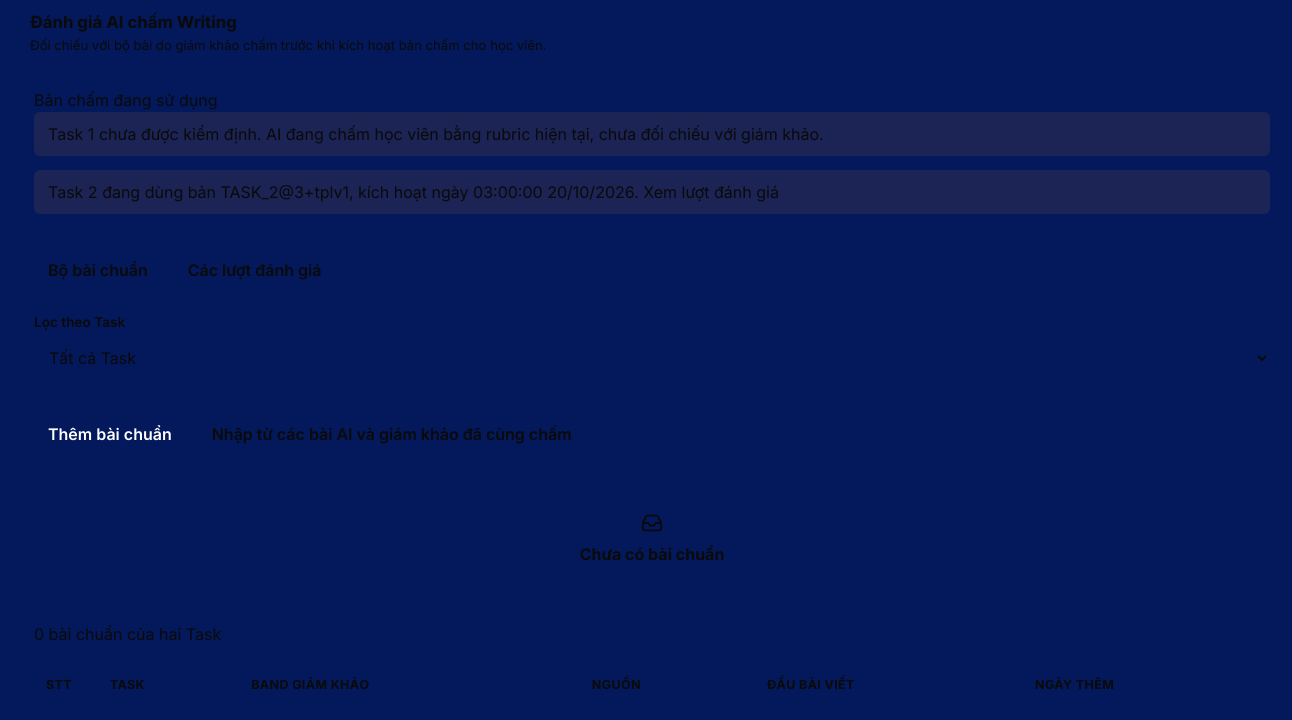
Scenario: AiEvaluationPage › reloads runs every five seconds while one is running and stops when it is done
Step 1. Click the button "Các lượt đánh giá" → click(255, 270), box [174,248,336,292]
Wait 30000 ms
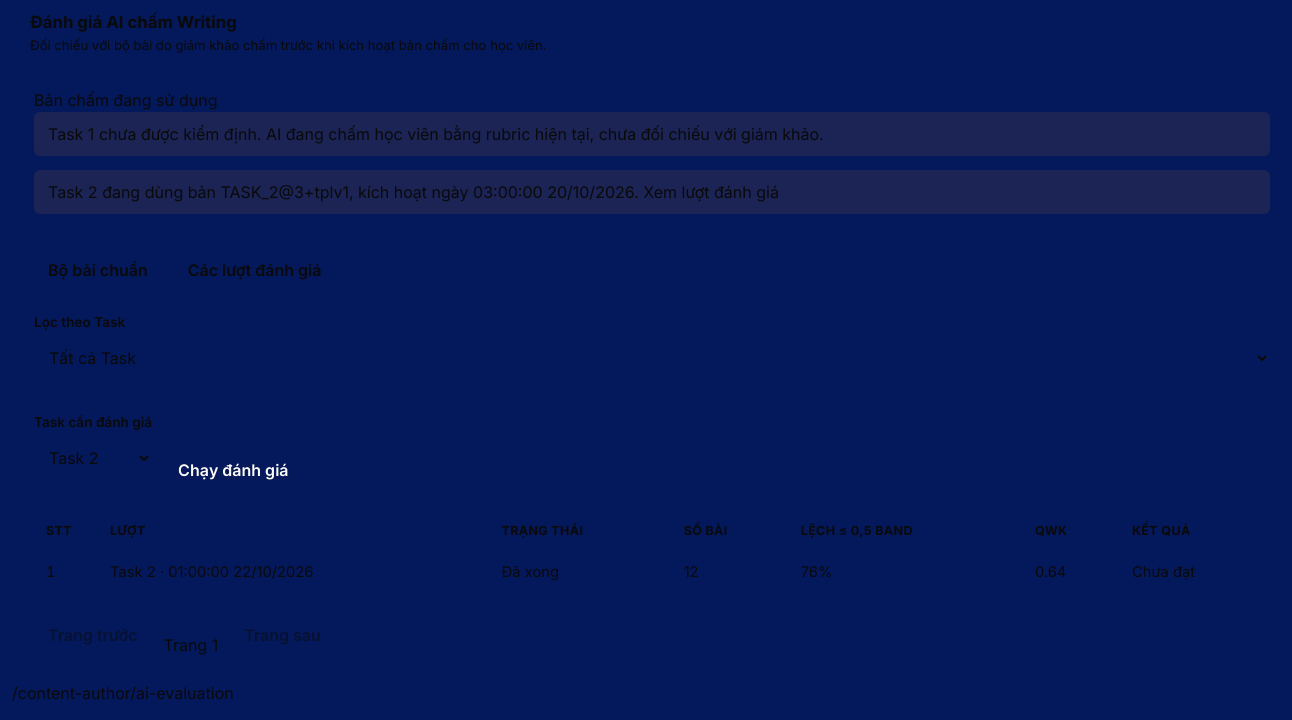
Check: the text "Đã xong" is shown, box [490,551,672,593]
